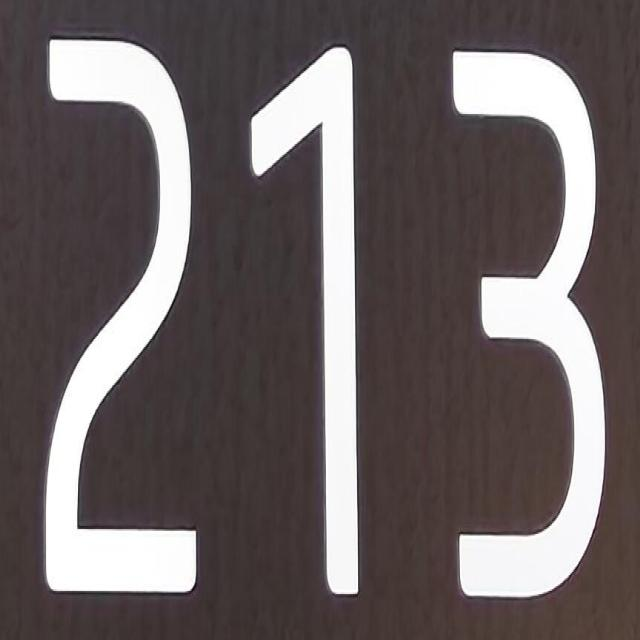character: (40, 26, 207, 609), (447, 42, 616, 612), (246, 30, 368, 615)
